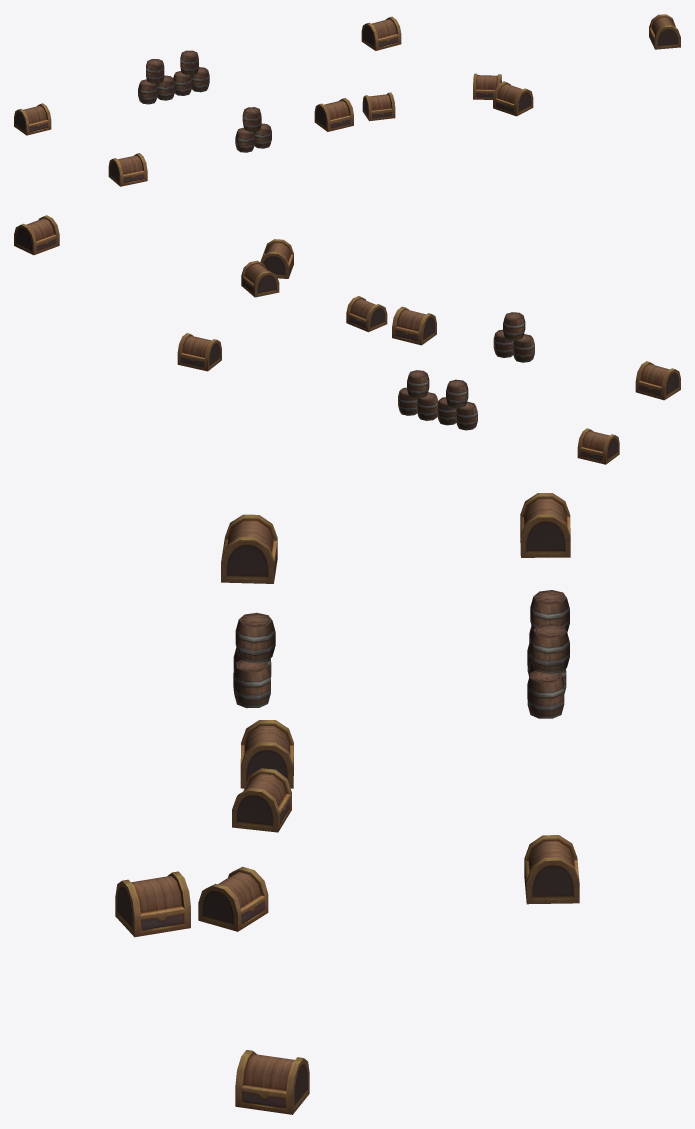
Rendered from wujian35.fbx.
The picture shows the model from 3 angles, top to bottom: view 1: azimuth 30°, elevation 25°; view 2: azimuth 150°, elevation 25°; view 3: azimuth 270°, elevation 25°; orthographic projection. The views are drawn at different scales.
Visible parts, largest first — view 1: wujian35; view 2: wujian35; view 3: wujian35.
Boxes of the visible parts, x1,y1,x2,y2 form: wujian35: (14,14,680,186); wujian35: (14,215,680,464); wujian35: (115,493,579,1114).
Bounding box in the file's own units: 4033 × 240 × 1370.
Materials: 1 (1 with a texture image).
